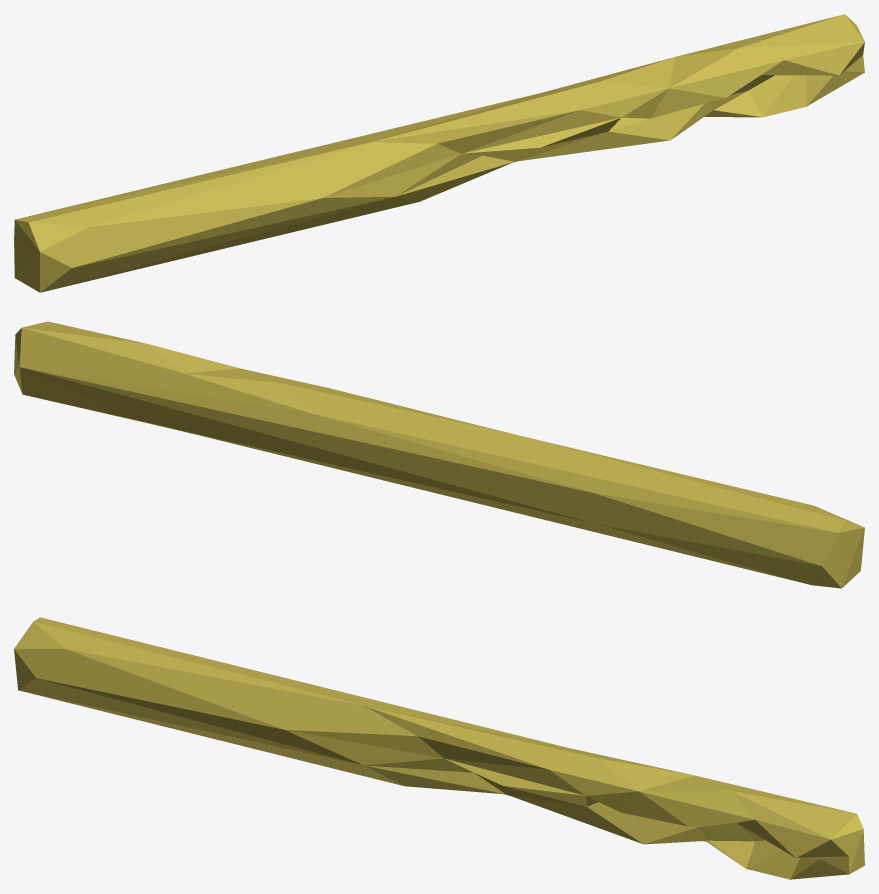
File: brass 2.glb
3 views of the same model, one above another, from view 1: azimuth 30°, elevation 25°; view 2: azimuth 150°, elevation 25°; view 3: azimuth 330°, elevation 25° (orthographic).
Parts seen in each view (by area): view 1: Cube; view 2: Cube; view 3: Cube.
Part boxes in pixels (left/top/right/bottom): Cube: left=14, top=14, right=864, bottom=292; Cube: left=14, top=321, right=864, bottom=588; Cube: left=14, top=617, right=864, bottom=879.
Size of the model in its own units: 1.04 by 0.0864 by 0.0865.
